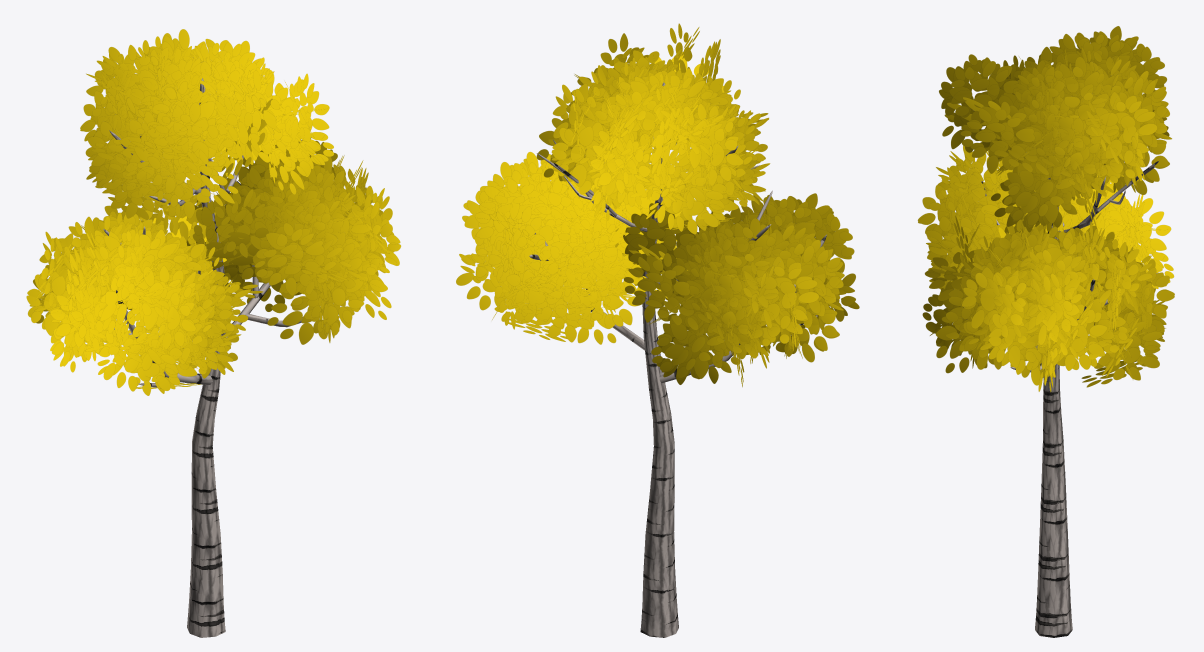
File: BirchTree_4.glb
The picture shows the model from 3 angles, left to right: view 1: azimuth 30°, elevation 25°; view 2: azimuth 150°, elevation 25°; view 3: azimuth 270°, elevation 25°; orthographic projection.
Visible parts, largest first — view 1: BirchTree_4; view 2: BirchTree_4; view 3: BirchTree_4.
Part boxes in pixels (box(x1,y1,x2,y2)): BirchTree_4: box(26, 29, 400, 637); BirchTree_4: box(456, 23, 859, 637); BirchTree_4: box(917, 26, 1174, 637).
Bounding box in the file's own units: 2.78 × 4.21 × 1.84.
Materials: 2 (2 with a texture image).
